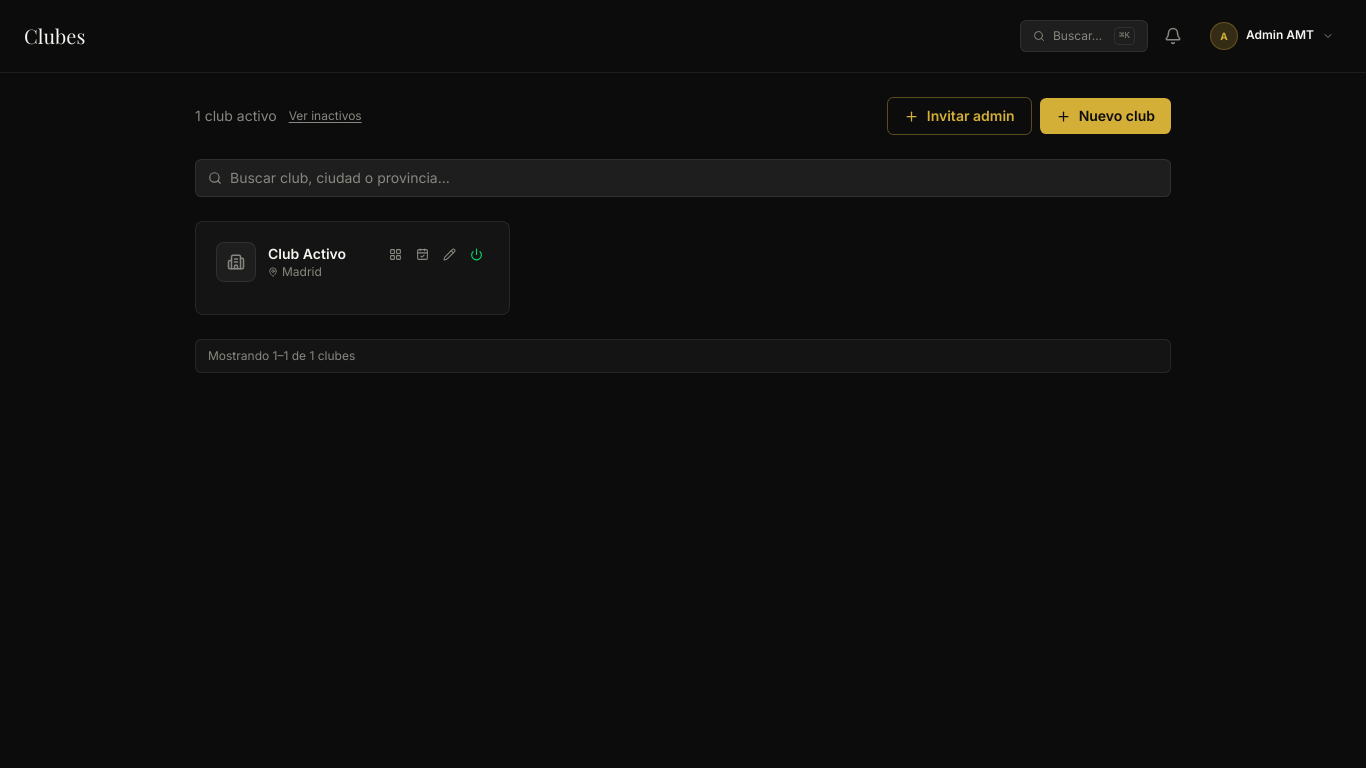
it: ClubesPage — reservas del club (R1-7) › AMT aprueba la activación desde la tarjeta y el estado pasa a modo prueba
Click the button named "Reservas del club" at (422, 254), box [410, 242, 435, 267]
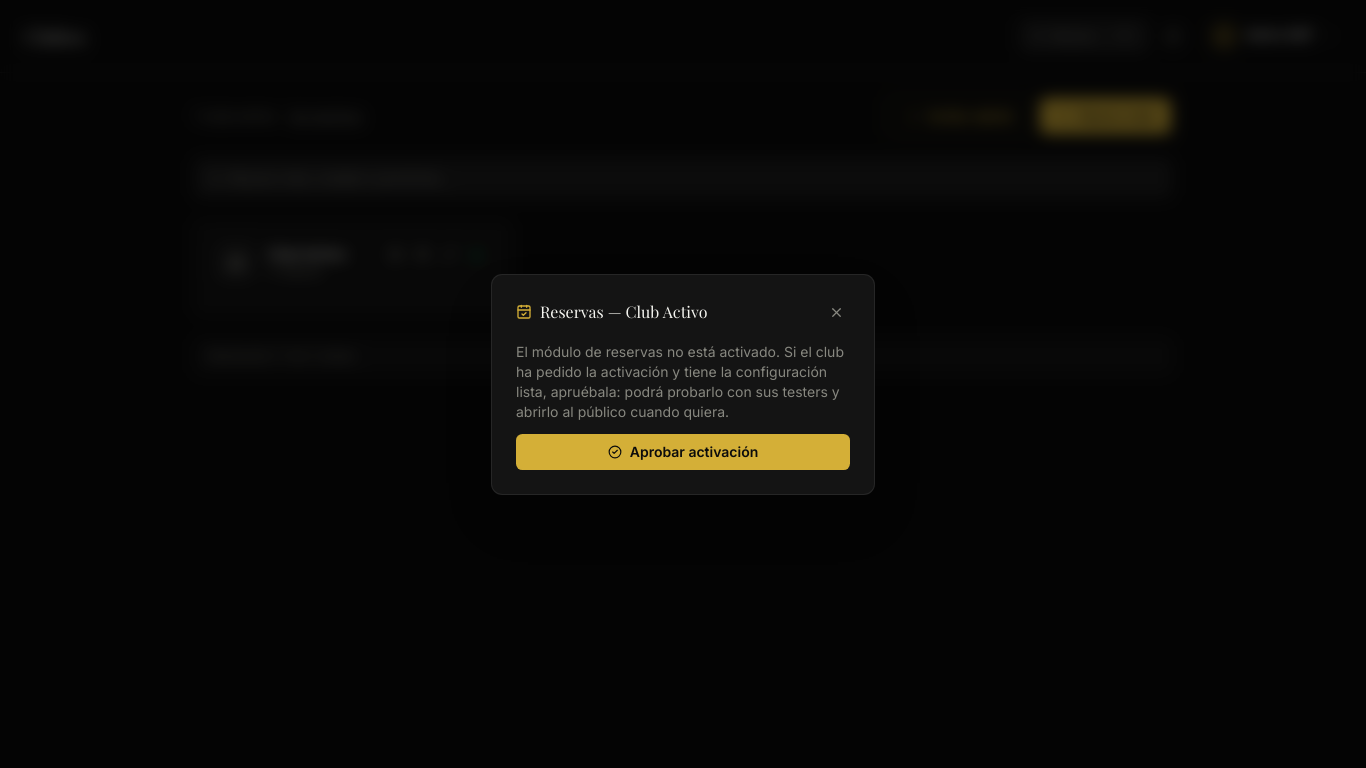
Click the button "Aprobar activación" at (683, 452), box [516, 434, 850, 470]
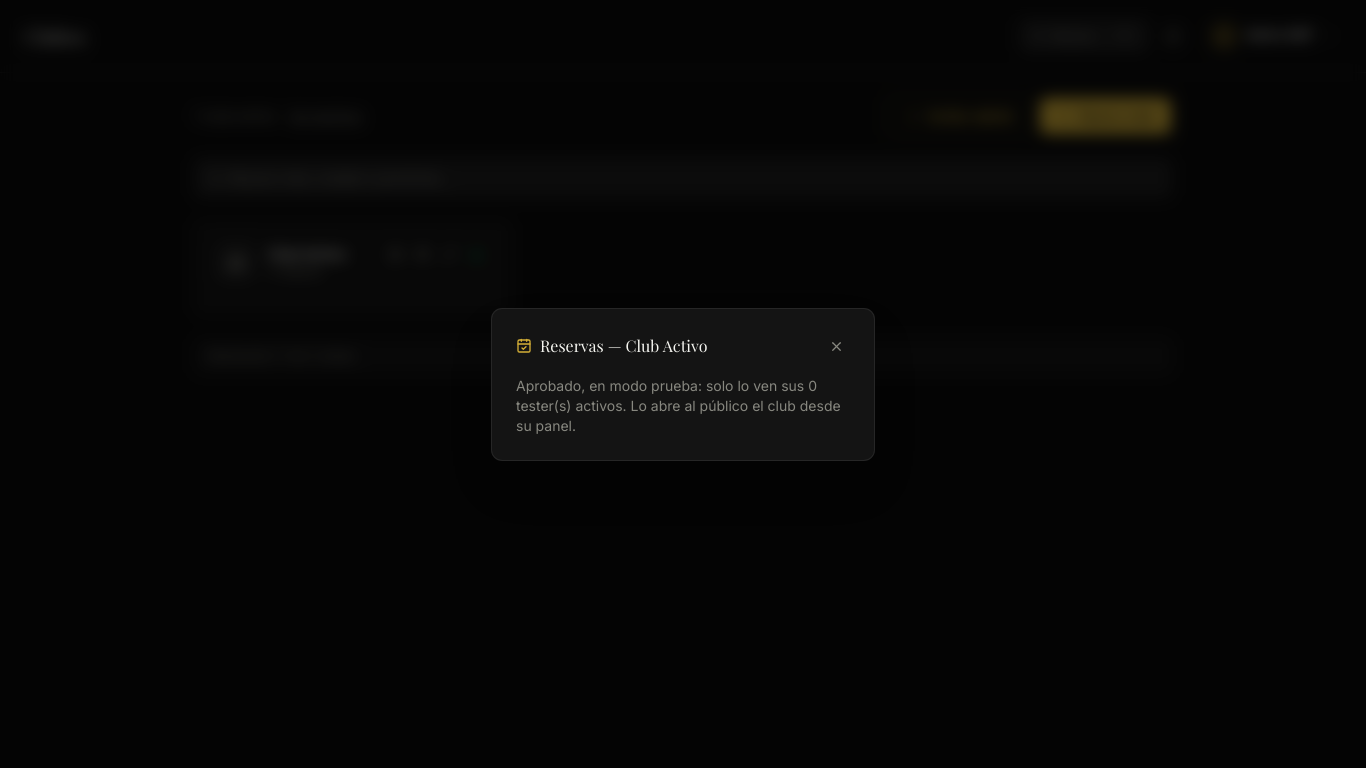
Expected: the text "Aprobado, en modo prueba" is shown, [516, 376, 808, 394]
Expected: the button "Aprobar activación" is gone
